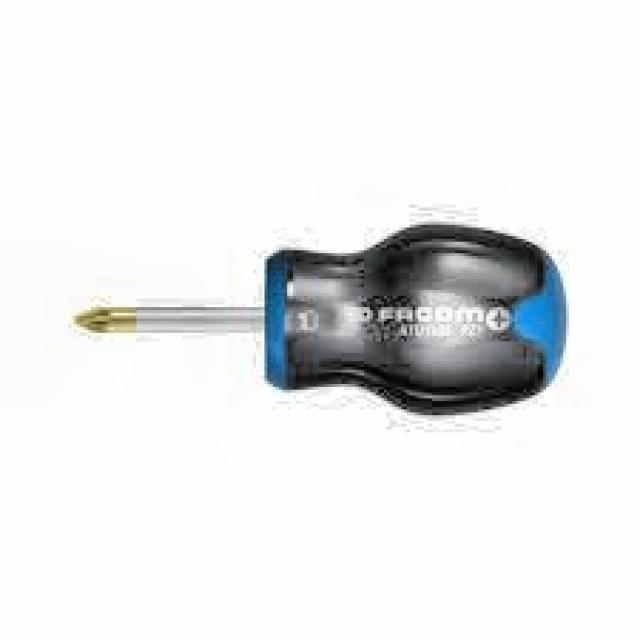screwdriver: (75, 222, 569, 416)
